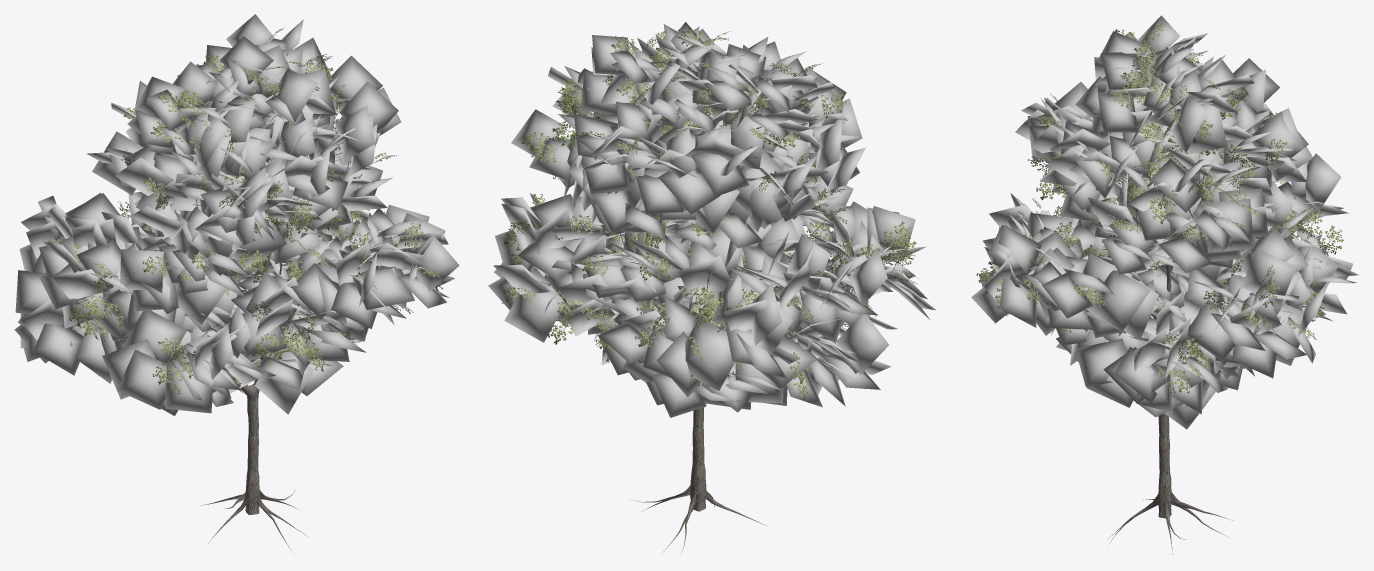
Rendered from Japanese_Maple.fbx.
The picture shows the model from 3 angles, left to right: view 1: azimuth 30°, elevation 25°; view 2: azimuth 150°, elevation 25°; view 3: azimuth 270°, elevation 25°; orthographic projection. The views are drawn at different scales.
Parts seen in each view (by area): view 1: Japanese_Maple_Hero_17; view 2: Japanese_Maple_Hero_17; view 3: Japanese_Maple_Hero_17.
Part boxes in pixels (x1=…): Japanese_Maple_Hero_17: x1=14, y1=14, x2=459, y2=550; Japanese_Maple_Hero_17: x1=488, y1=22, x2=935, y2=554; Japanese_Maple_Hero_17: x1=971, y1=15, x2=1358, y2=554.
Size of the model in its own units: 1.83 by 2.18 by 1.57.
